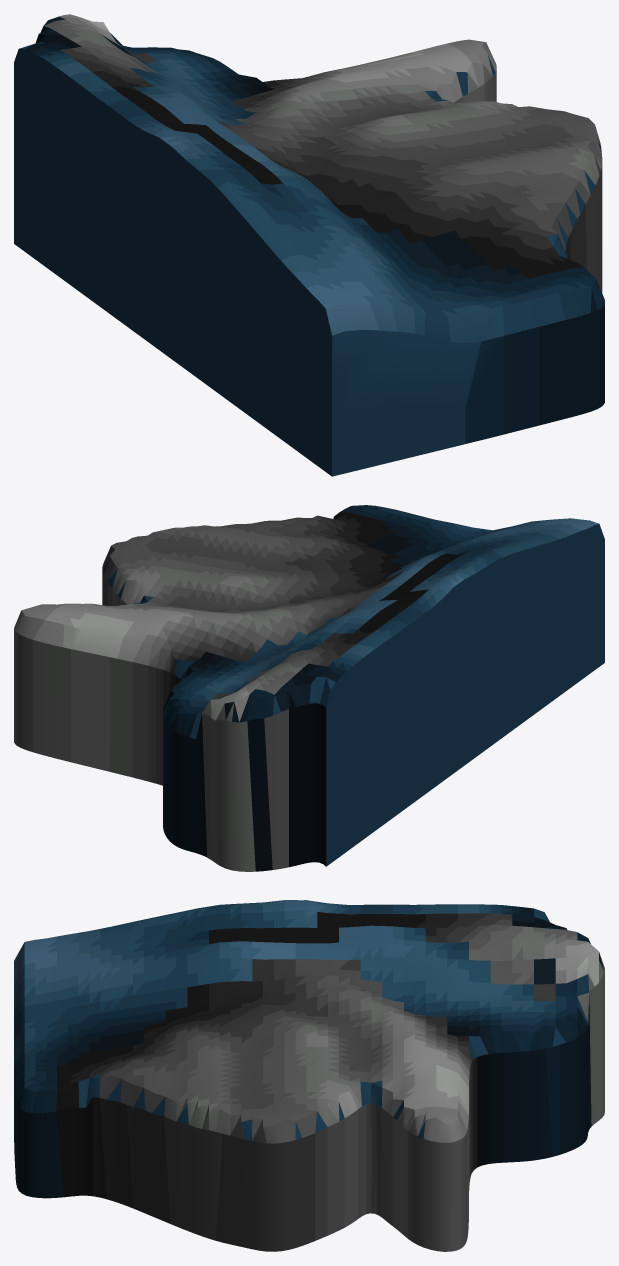
File: gryphon_neck_93.glb
3 renders of one model, top to bottom at view 1: azimuth 30°, elevation 25°; view 2: azimuth 150°, elevation 25°; view 3: azimuth 270°, elevation 25°, orthographic. The views are drawn at different scales.
Visible parts, largest first — view 1: gryphon_neck_93_gneck; view 2: gryphon_neck_93_gneck; view 3: gryphon_neck_93_gneck.
Part boxes in pixels (bbox=[...]): gryphon_neck_93_gneck: bbox=[14, 14, 604, 476]; gryphon_neck_93_gneck: bbox=[14, 505, 604, 871]; gryphon_neck_93_gneck: bbox=[14, 900, 604, 1251].
Bounding box in the file's own units: 18.76 × 9.3 × 27.27.
